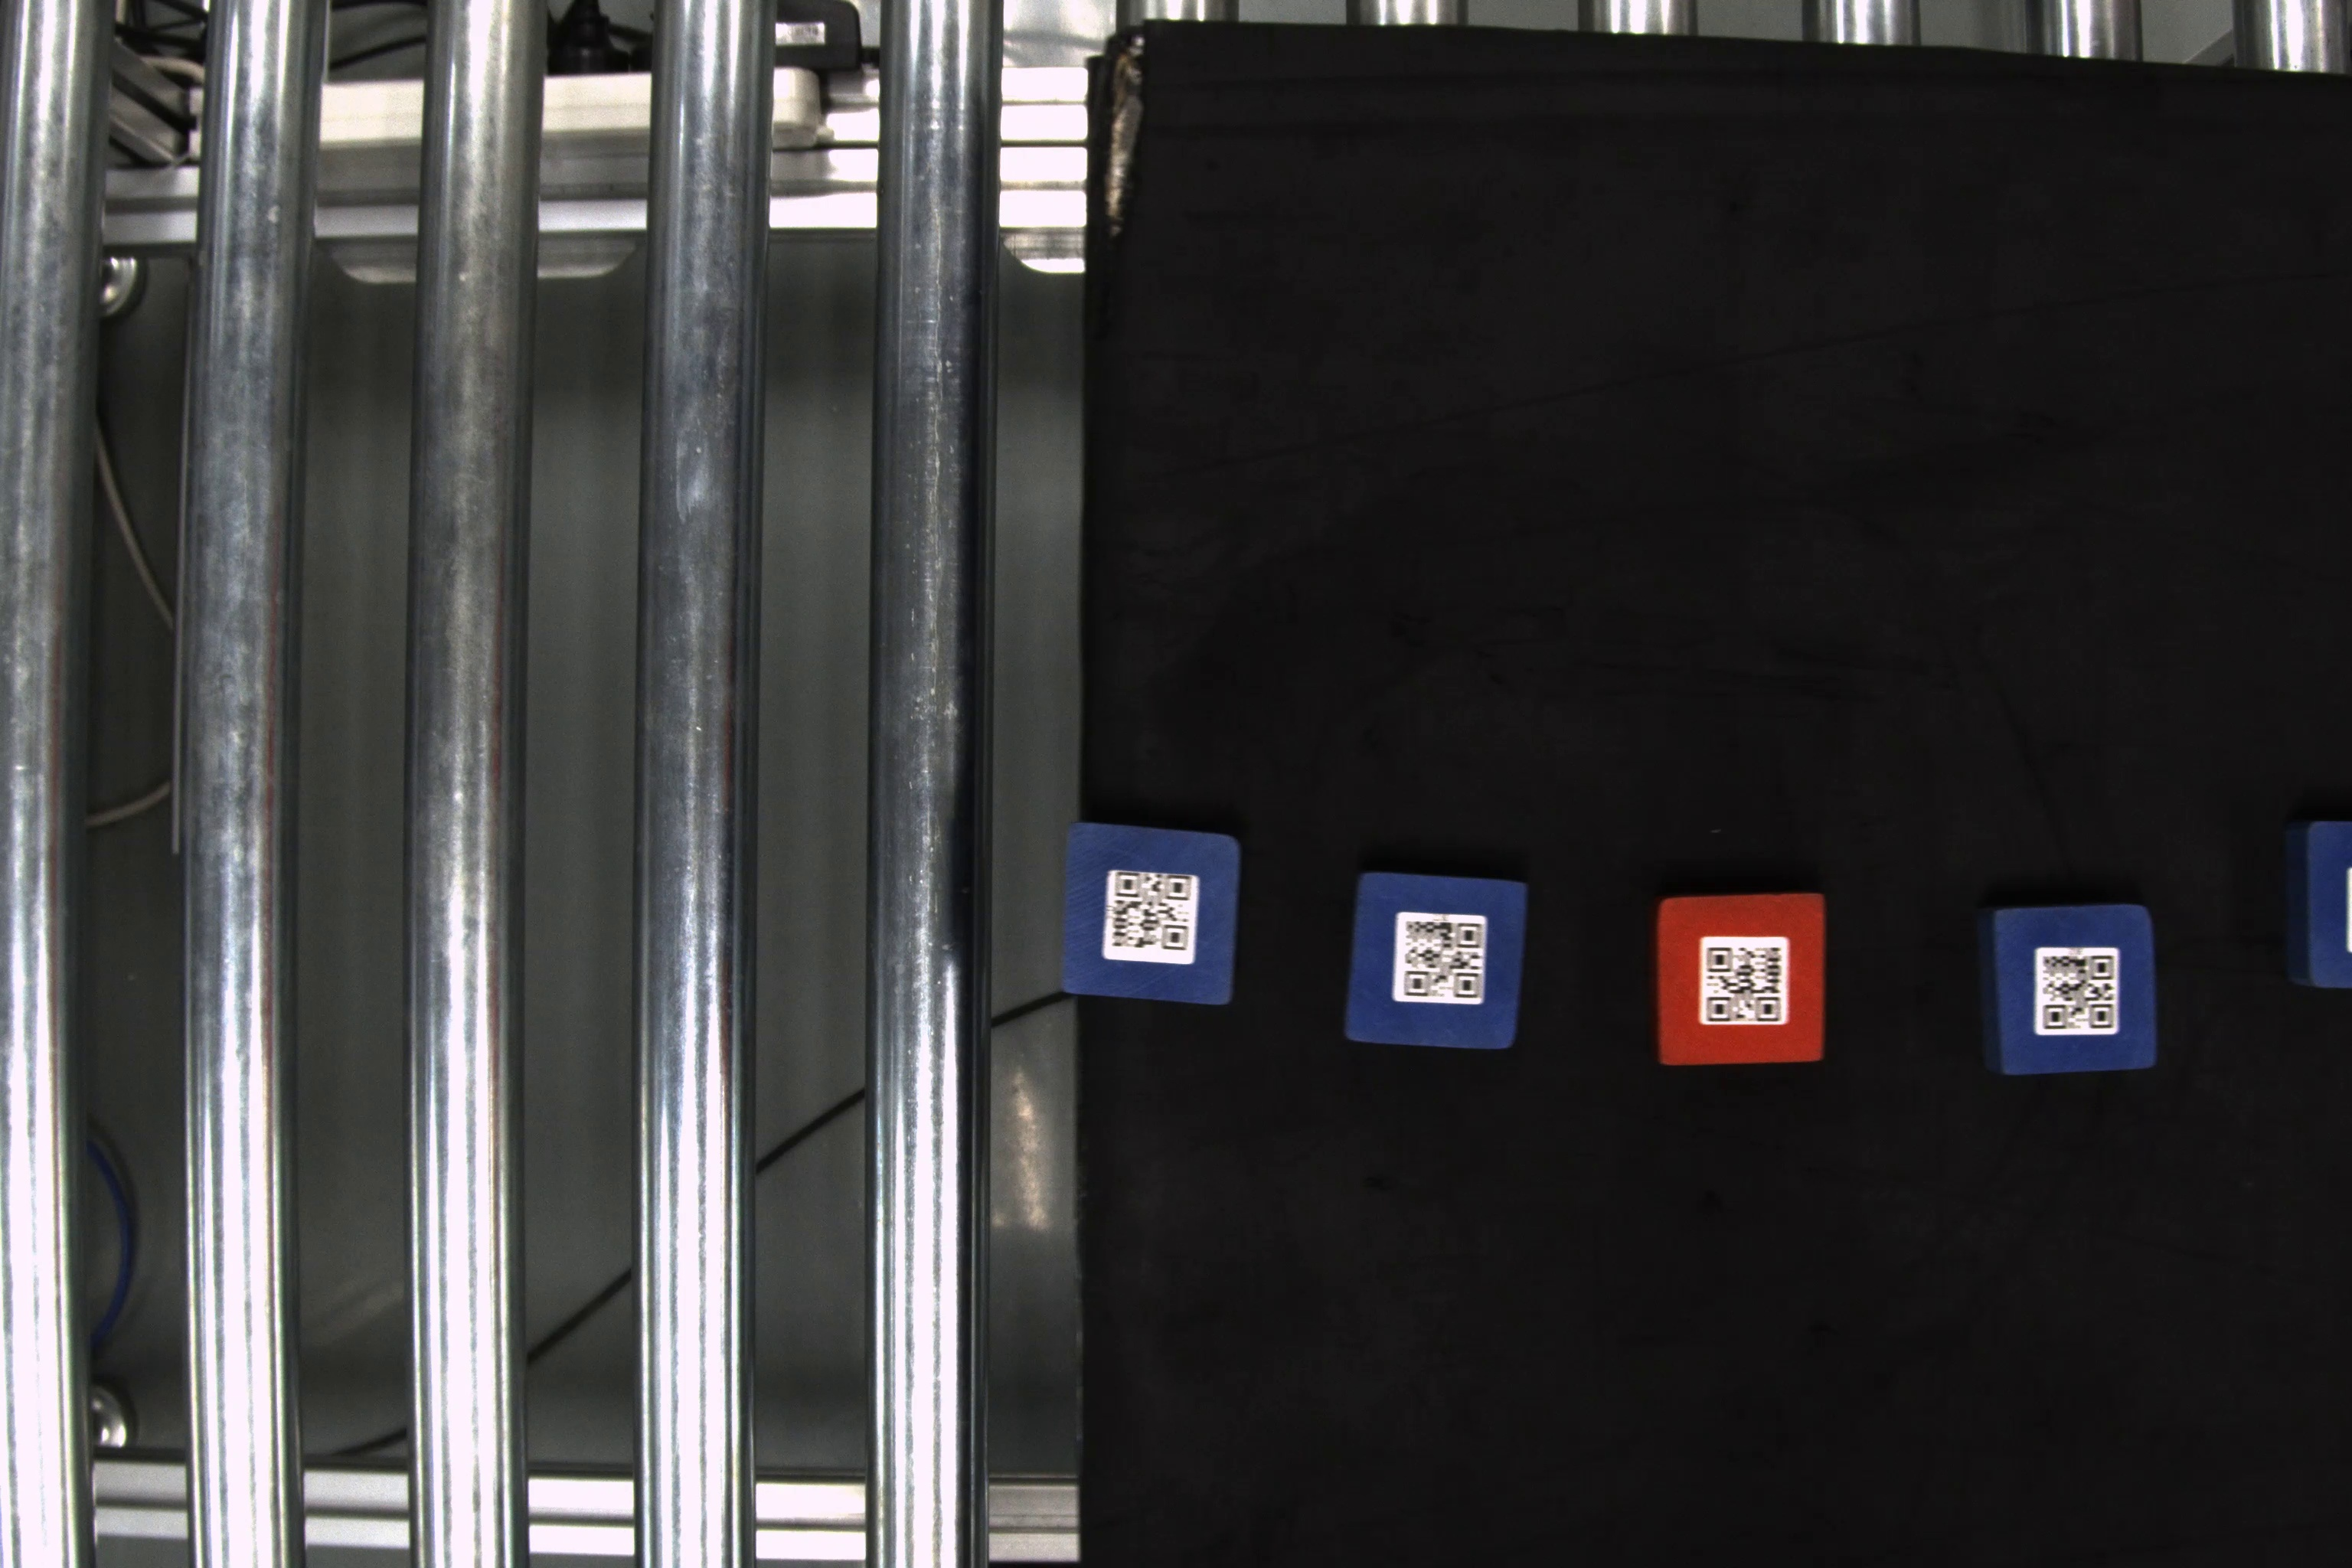wood: (1053, 819, 1244, 1008), (1346, 864, 1536, 1053), (1654, 889, 1832, 1071), (1983, 906, 2165, 1083), (2282, 814, 2352, 1003)
